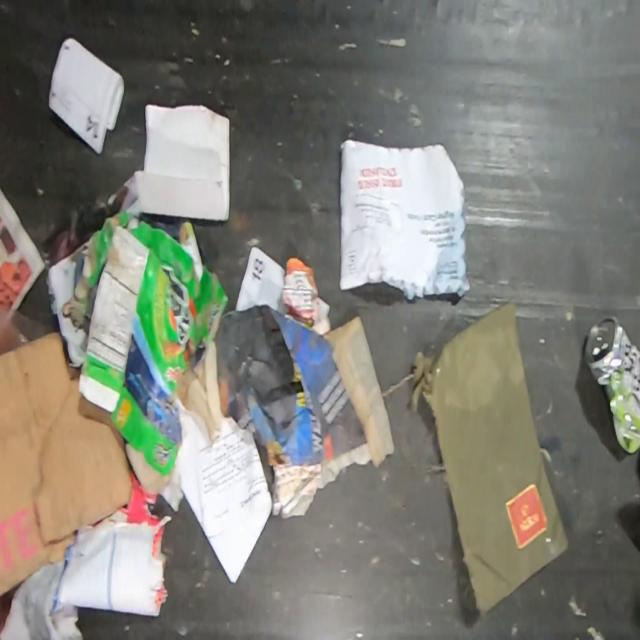cardboard: (74, 211, 228, 476), (0, 332, 135, 595)
metal: (581, 313, 640, 457)
soft_plastic: (409, 297, 570, 616)
